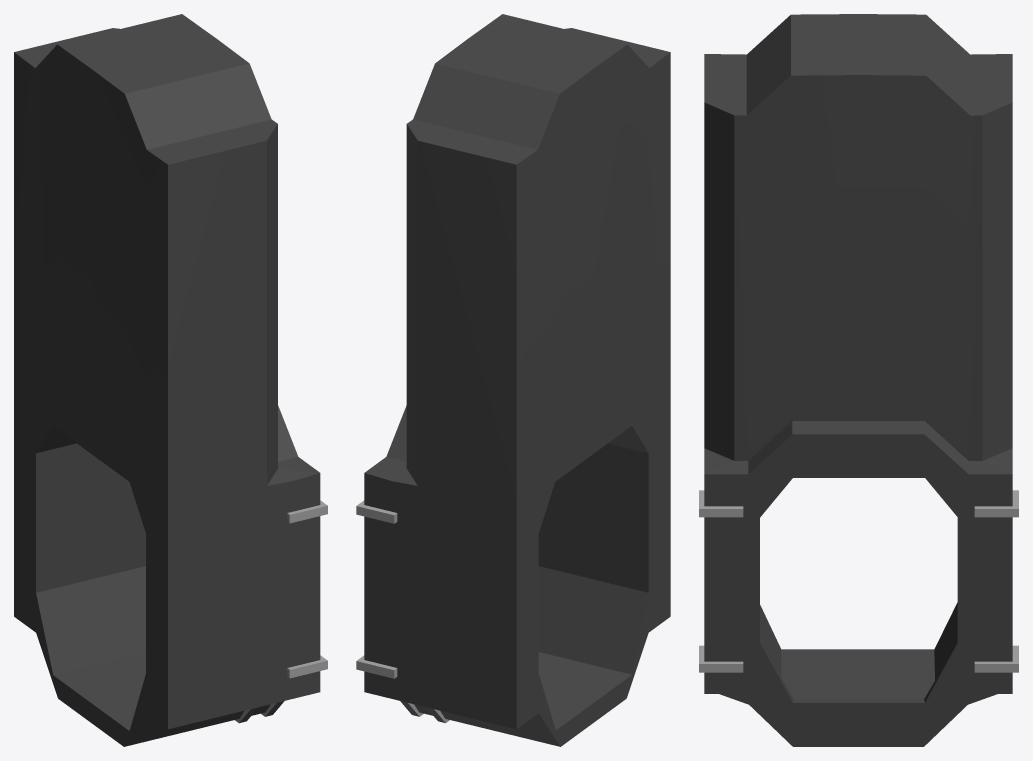
Rendered from ManifoldExtension.fbx.
3 views of the same model, side by side, from view 1: azimuth 30°, elevation 25°; view 2: azimuth 150°, elevation 25°; view 3: azimuth 270°, elevation 25° (orthographic).
Parts seen in each view (by area): view 1: ManifoldExtension; view 2: ManifoldExtension; view 3: ManifoldExtension.
Part boxes in pixels (box(x1,y1,x2,y2)): ManifoldExtension: box(14, 14, 327, 746); ManifoldExtension: box(356, 14, 670, 746); ManifoldExtension: box(699, 14, 1018, 746).
Size of the model in its own units: 12.39 by 49.59 by 21.77.
